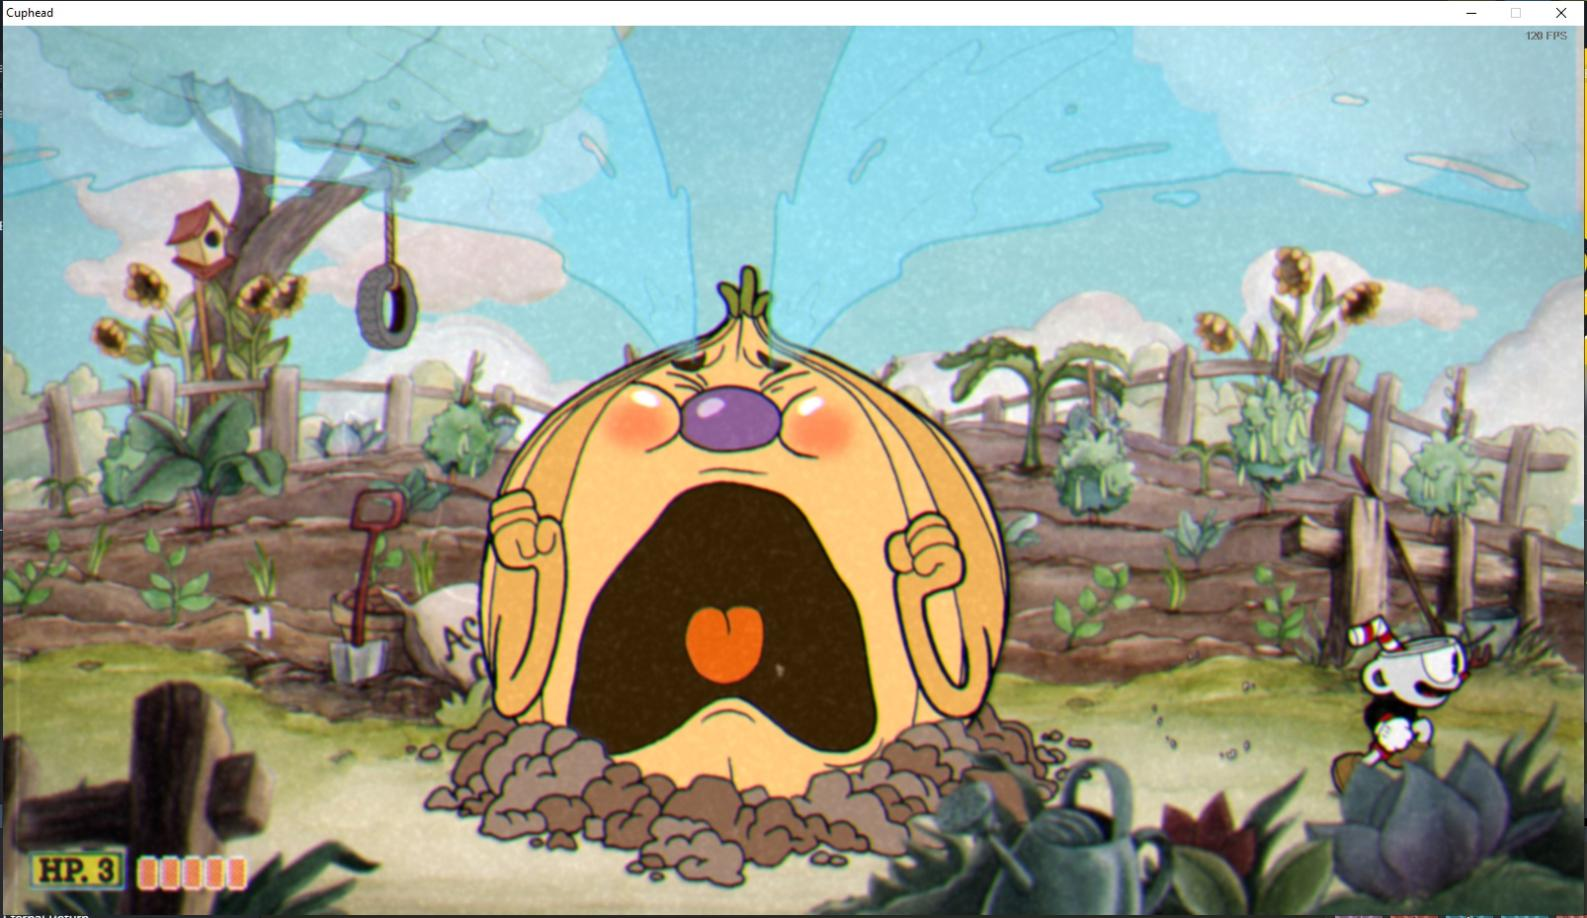hp3: (93, 853, 122, 889)
onion_boss: (473, 289, 1022, 850)
player: (1320, 612, 1479, 814)
